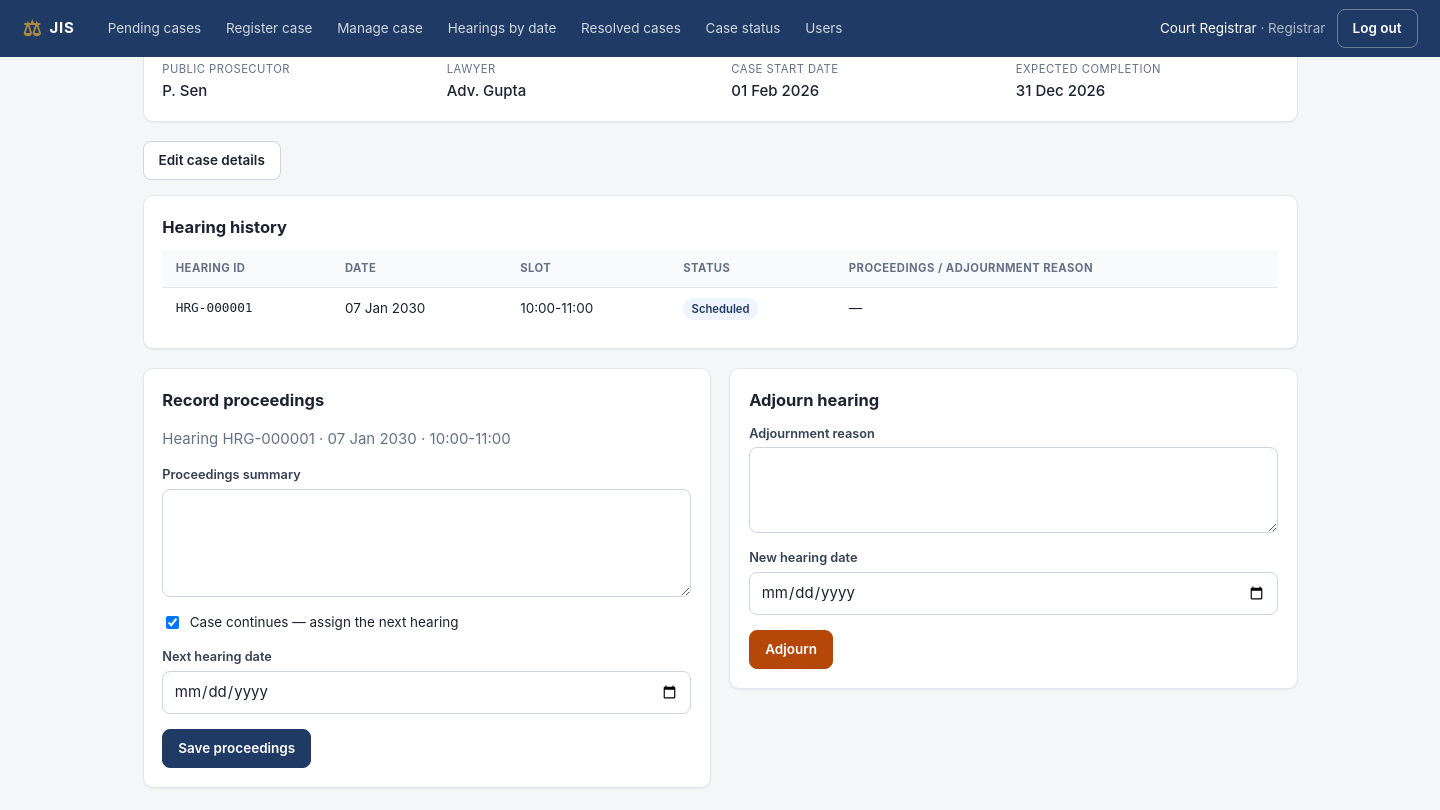
Test: case management › adjournment requires a reason and new date/time
This screenshot has width=1440, height=810.
(page scrolled)
Click the button "Adjourn" at (791, 649), box [749,630,833,669]
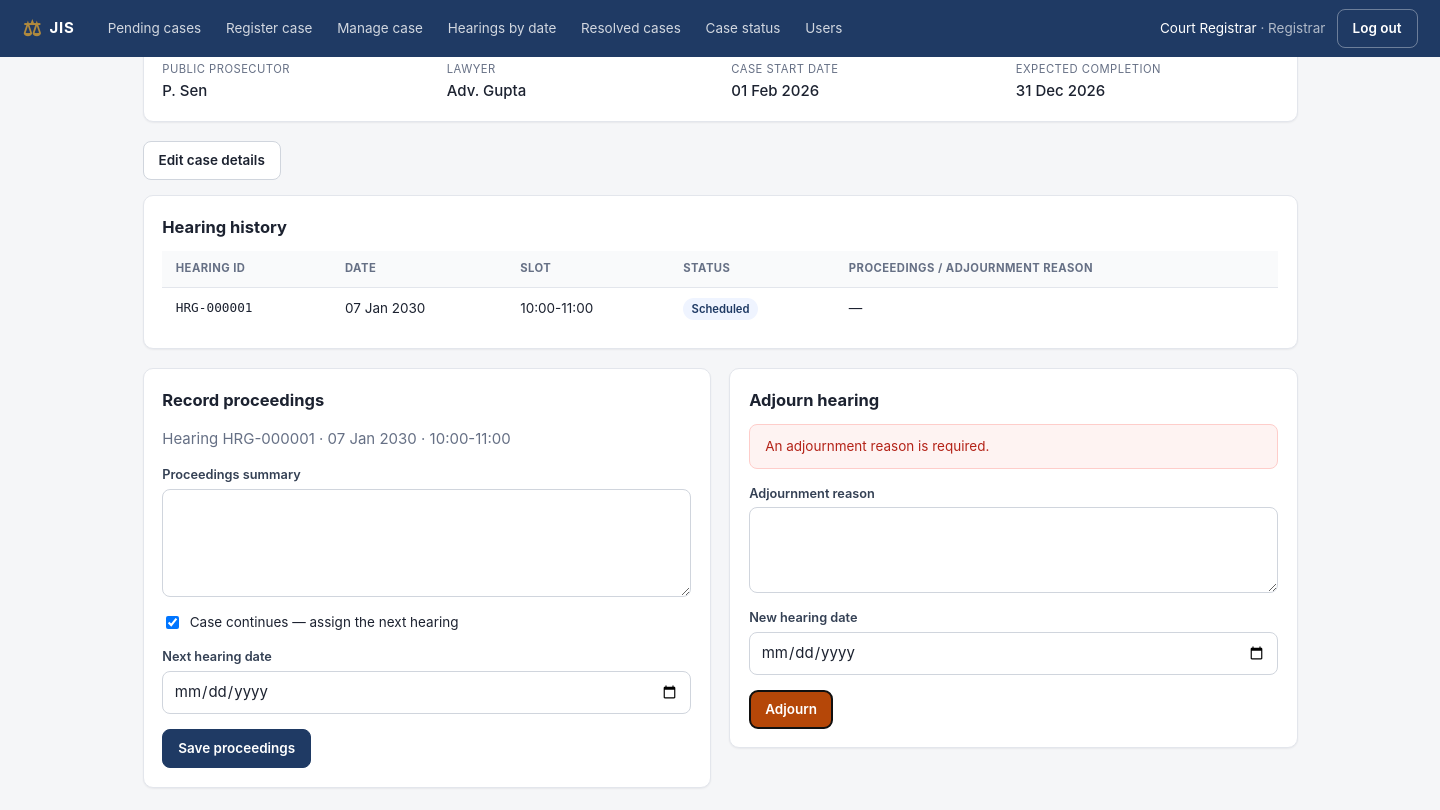
Check: the text "An adjournment reason is required." is shown, box [749,424,1278,469]
Type "Witness absent" into the text box labelled "Adjournment reason" at (1013, 550), box [749,507,1278,593]
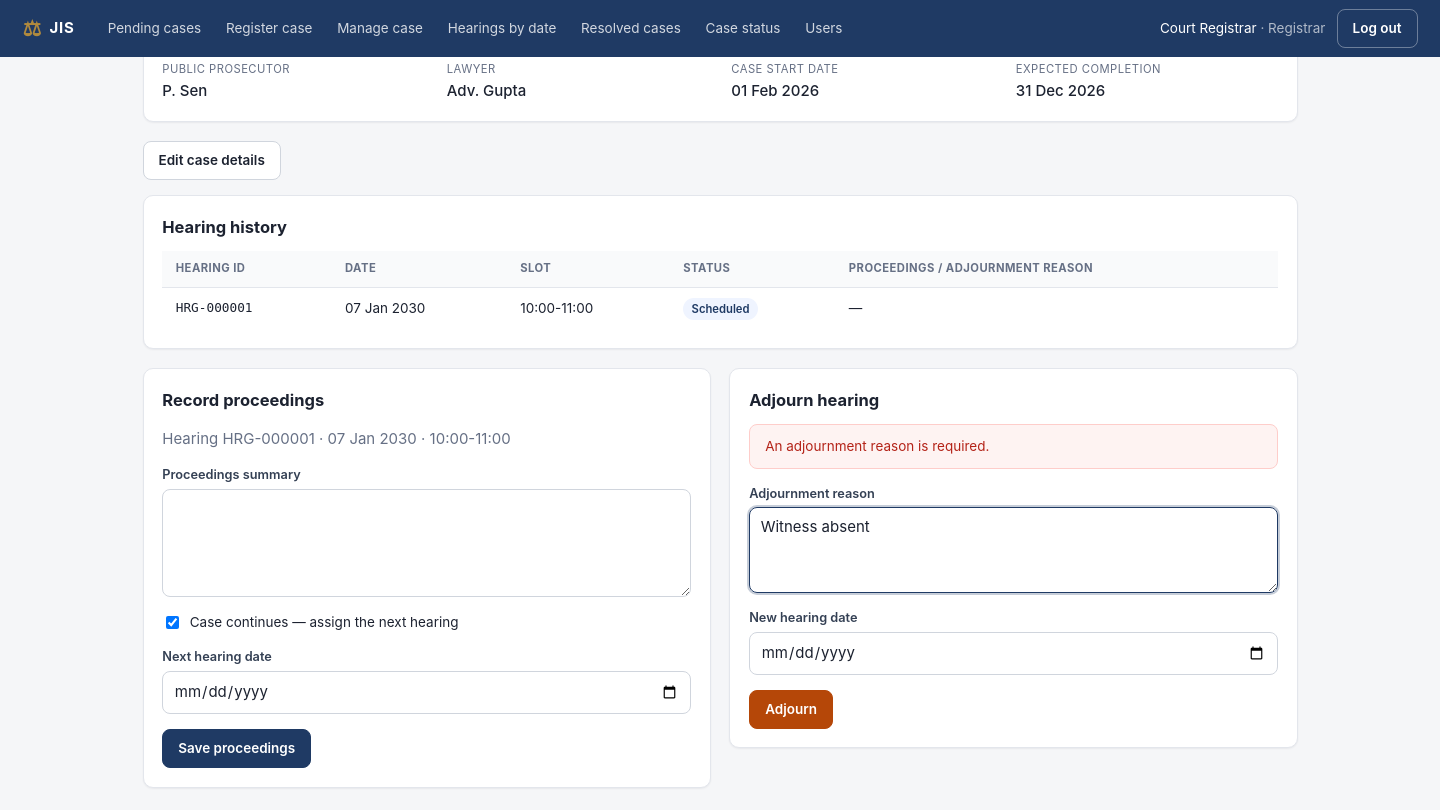
Click the button "Adjourn" at (791, 709), box [749,690,833,729]
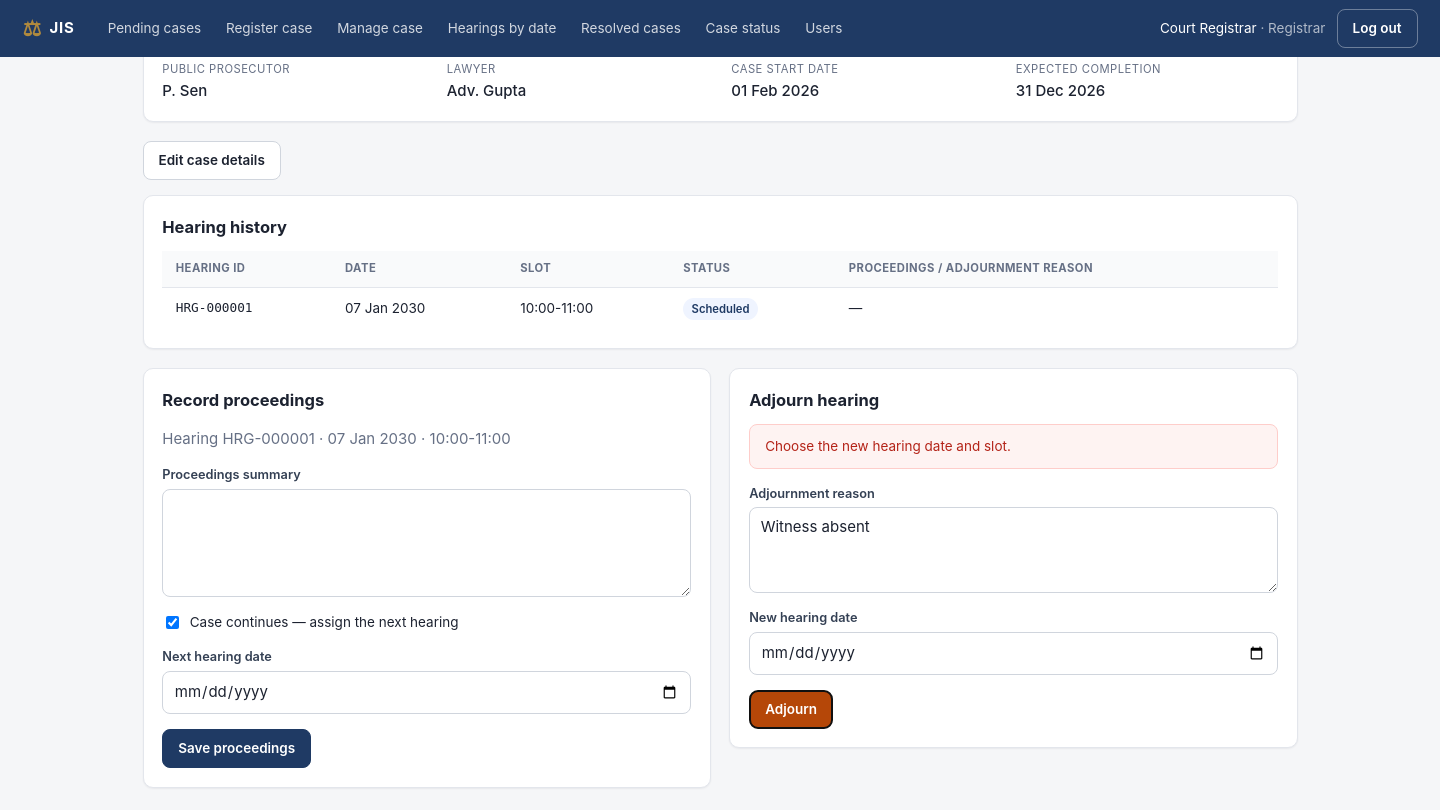
Check: the text "Choose the new hearing date and slot." is shown, box [749,424,1278,469]
